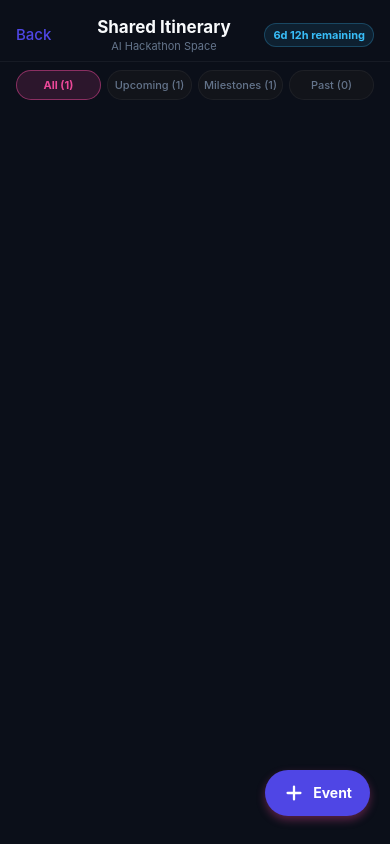
EventsScreen › opens CreateEventModal when FAB button is pressed
Click the element with test id "create-event-fab". click: (318, 793)
box: left=265, top=770, right=370, bottom=816
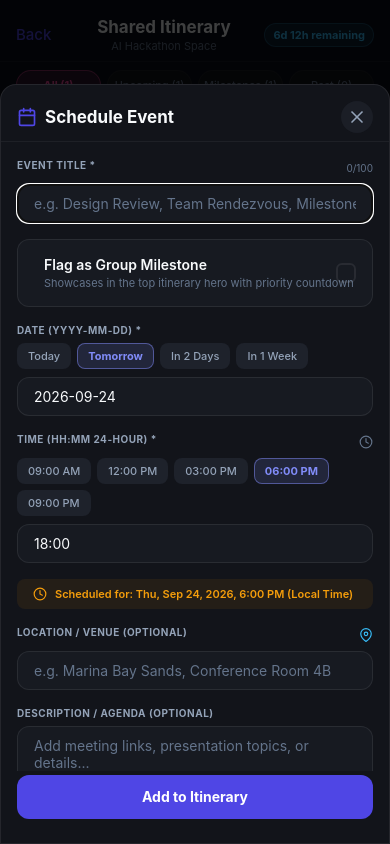
Result: the text "Schedule Event" is shown at left=45, top=106, right=174, bottom=128
